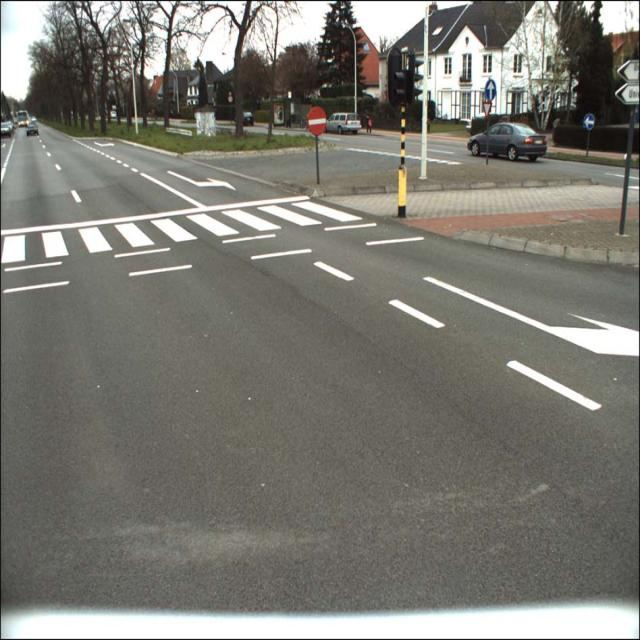girisyok: (308, 107, 326, 137)
sol: (583, 113, 594, 131)
